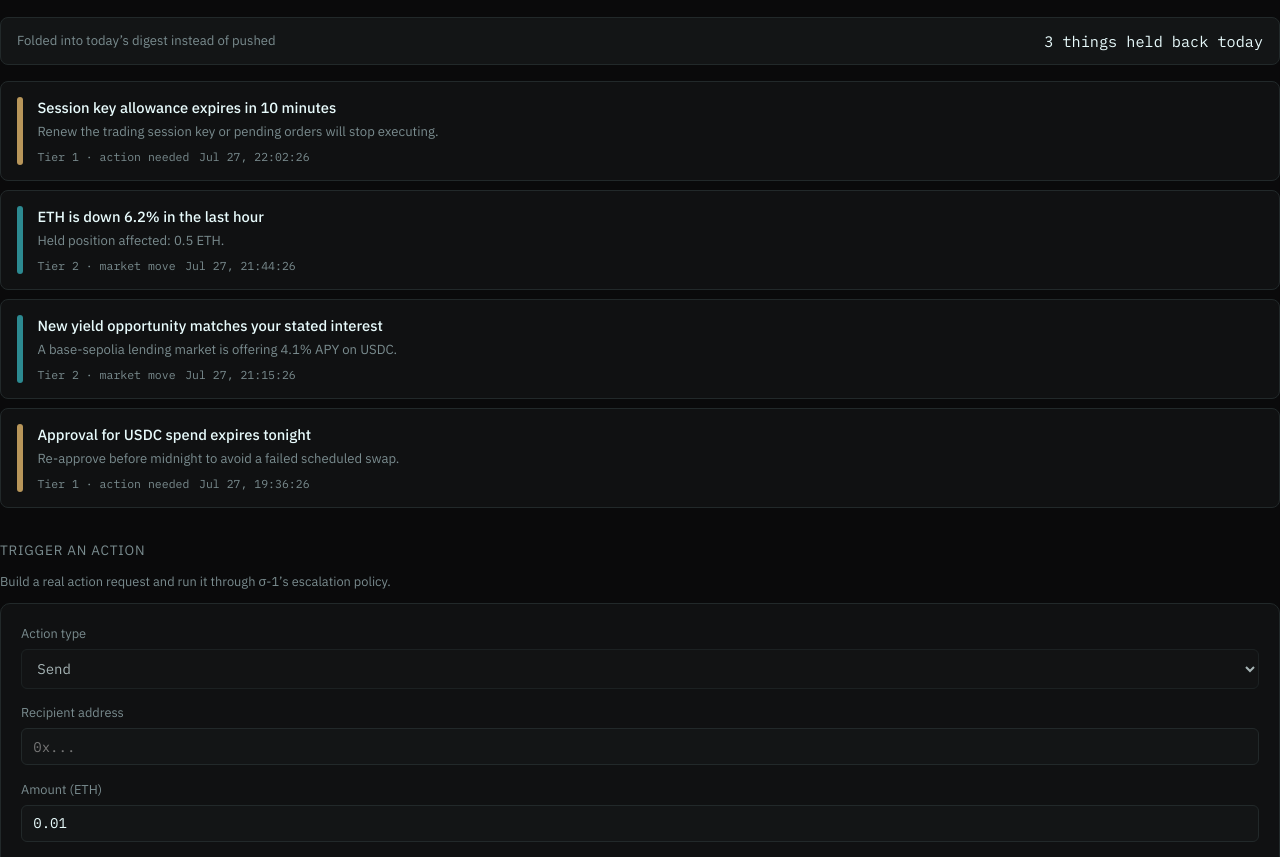
Scenario: NotificationsPageClient › confirming an awaiting-confirmation on-chain-money action runs it through the real executor action
Step 1. Type "0x1111111111111111111111111111111111111111" into the field labelled "Recipient address" → (640, 747), box [21, 728, 1259, 766]
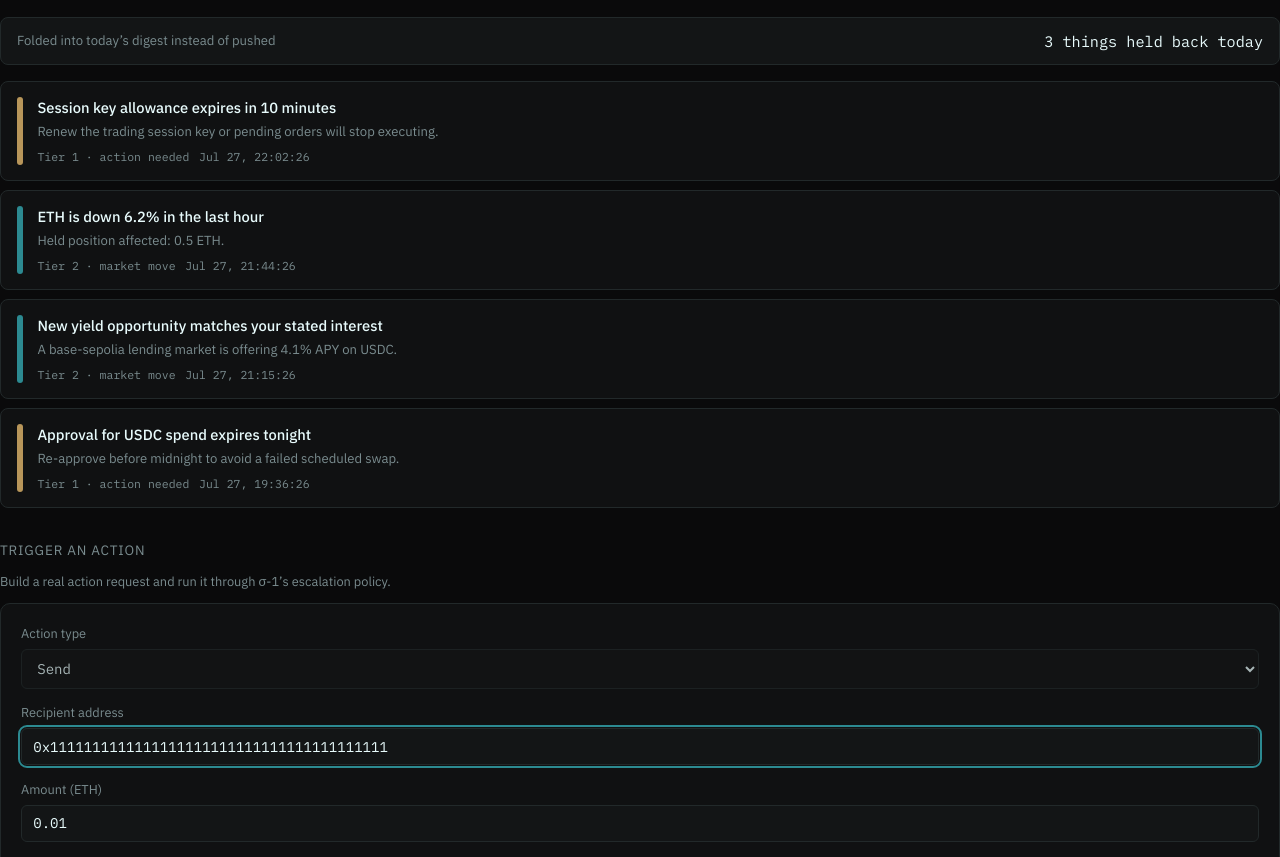
Step 2. Replace the text in the field labelled "Amount (ETH)" with "0.5" → (640, 823), box [21, 805, 1259, 842]
(page scrolled)
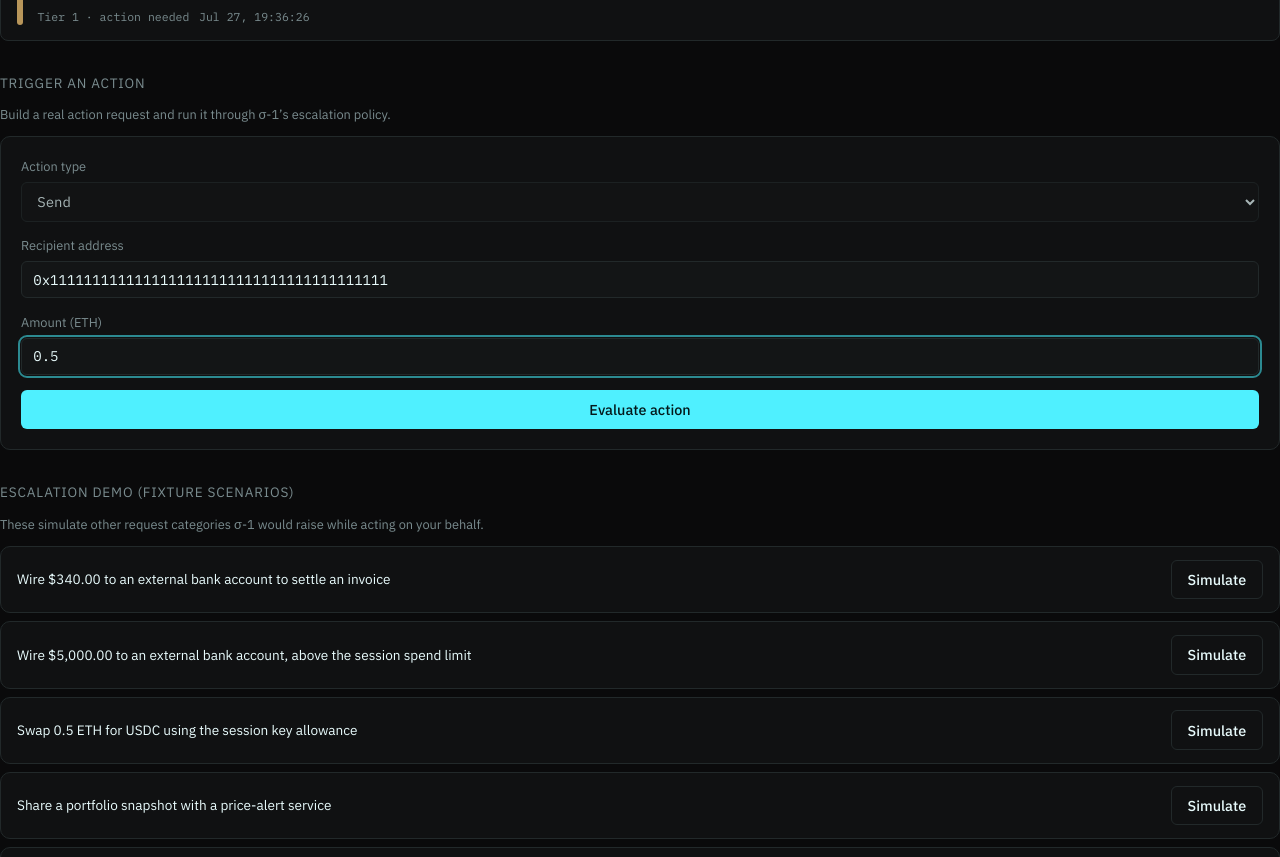
Step 3. Click the button "Evaluate action" → (640, 409), box [21, 390, 1259, 429]
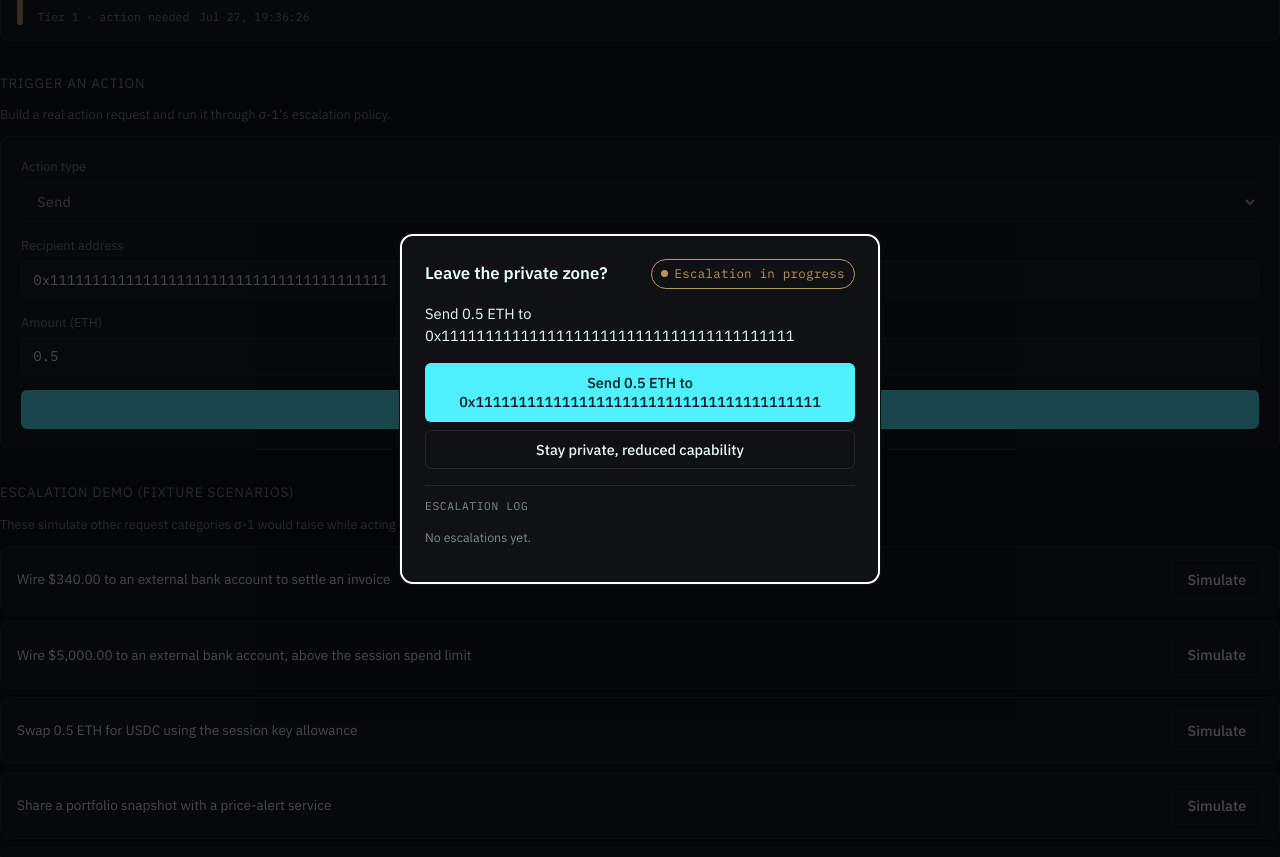
Step 4. Click the button "Send 0.5 ETH to 0x1111111111111111111111111111111111111111" → (640, 392), box [425, 363, 855, 422]
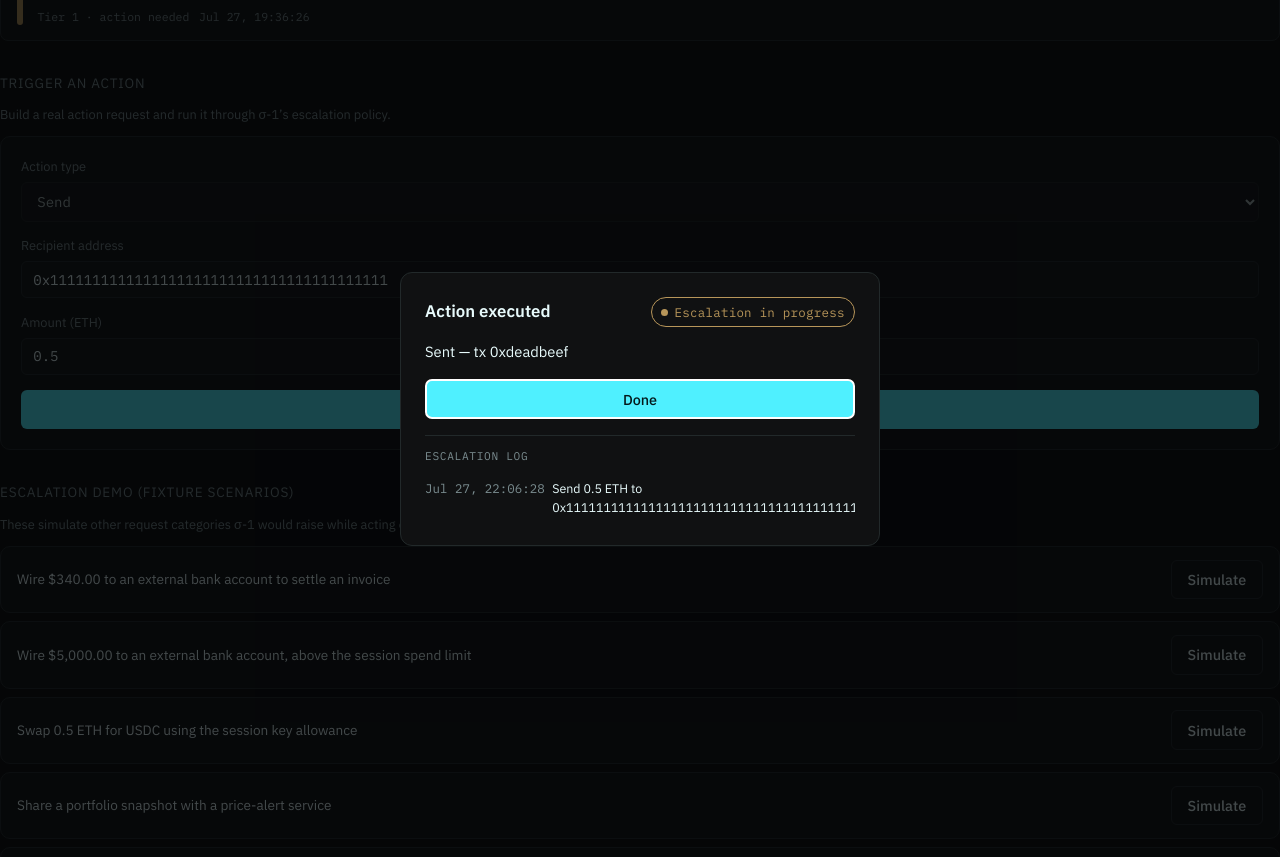
Expected: the text "Sent — tx 0xdeadbeef" is shown, [425, 342, 568, 361]
